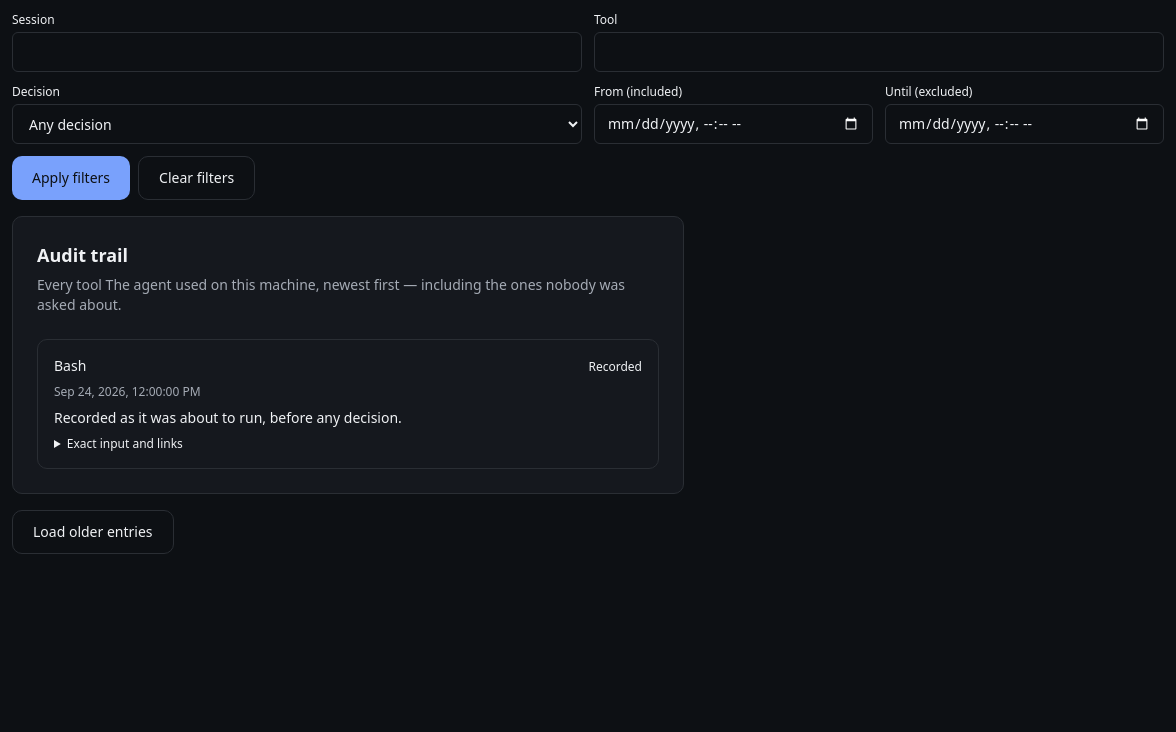
Test case: the audit trail screen › appends older entries, and keeps them all when the next page fails — S-77
Click the button "Load older entries". click: click(93, 532)
box: [12, 510, 174, 554]
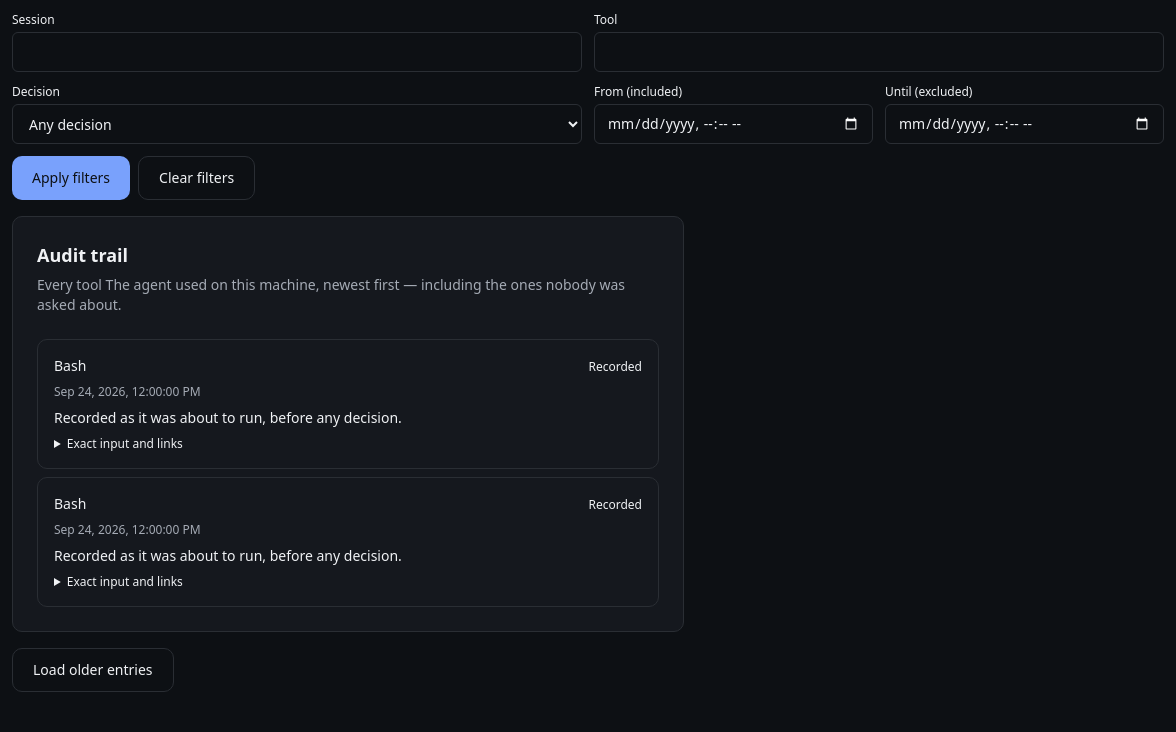
Expected: the number of list items is 2, [37, 339, 659, 469]; [37, 477, 659, 607]
Click the button "Load older entries". click: click(93, 670)
box: [12, 648, 174, 692]
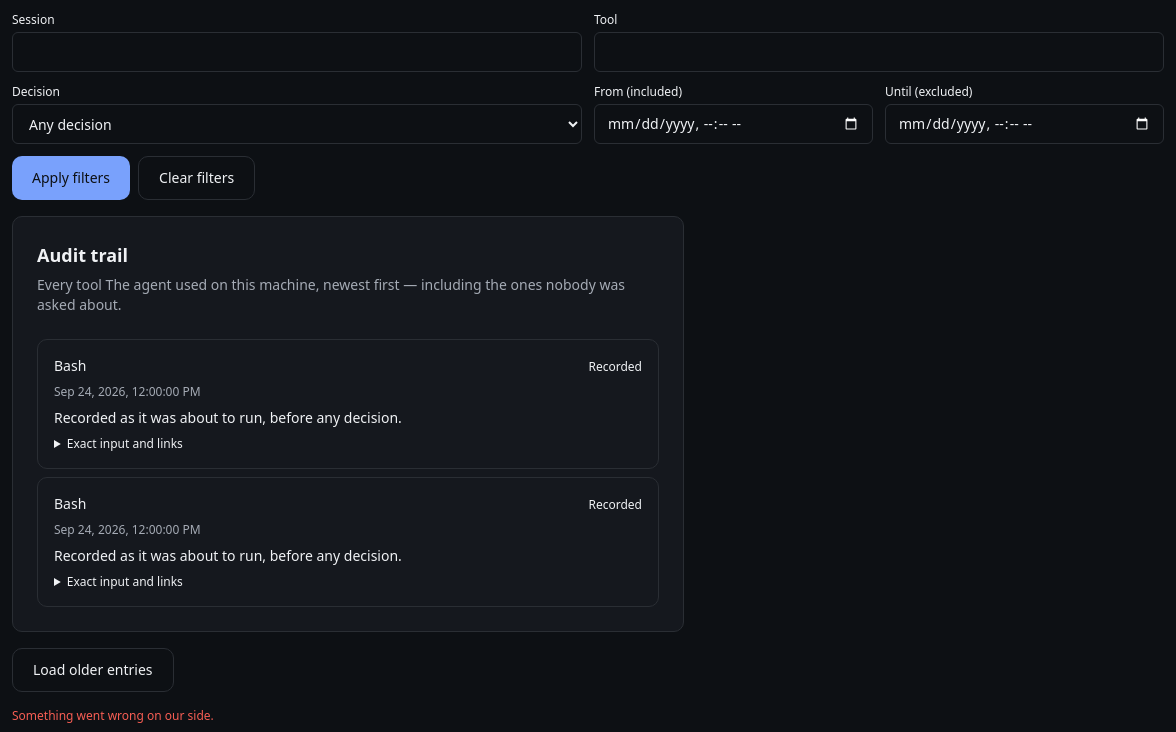
Expected: the number of list items is 2, [37, 339, 659, 469]; [37, 477, 659, 607]
Expected: the message reads "Something went wrong on our side.", [12, 707, 214, 724]
